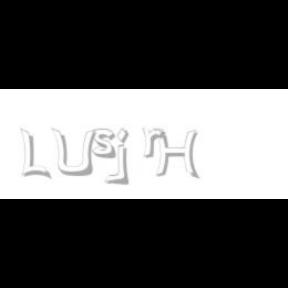H: (153, 128, 199, 180)
L: (20, 128, 48, 180)
U: (50, 128, 96, 178)
j: (114, 128, 142, 186)
r: (142, 128, 168, 158)
s: (92, 128, 120, 160)
